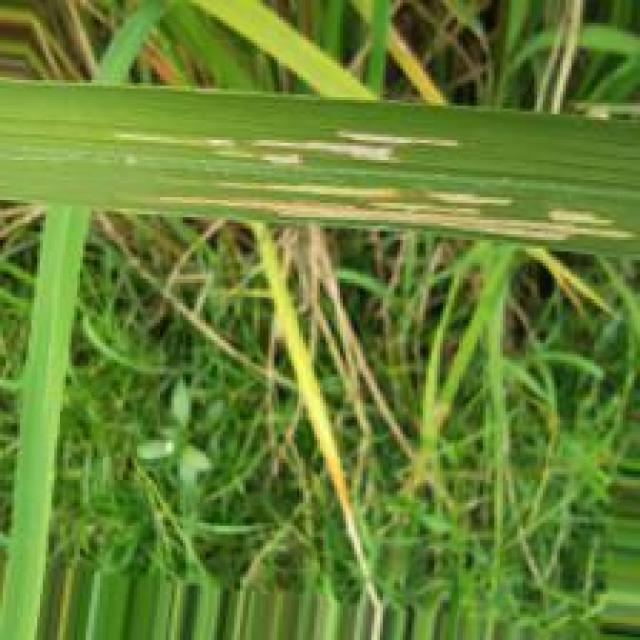Rice_Hispa: (157, 180, 621, 243), (247, 140, 390, 167), (341, 135, 447, 146)
